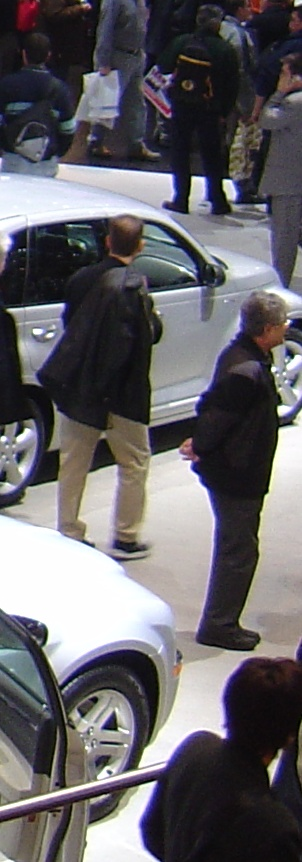person: (51, 207, 157, 556), (188, 292, 291, 649)
